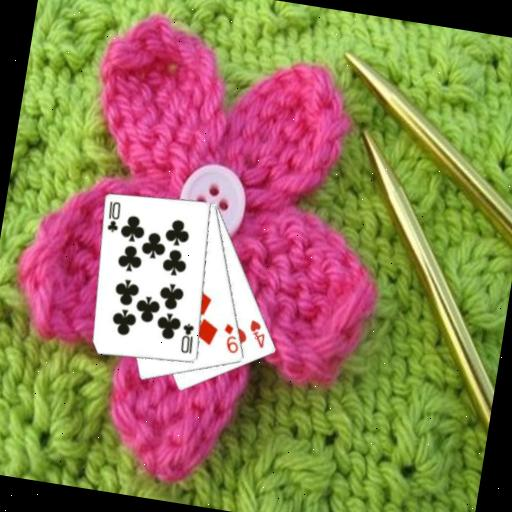10C: (176, 319, 198, 355), (102, 197, 123, 234)
4H: (243, 316, 269, 350)
9D: (217, 320, 243, 356)
